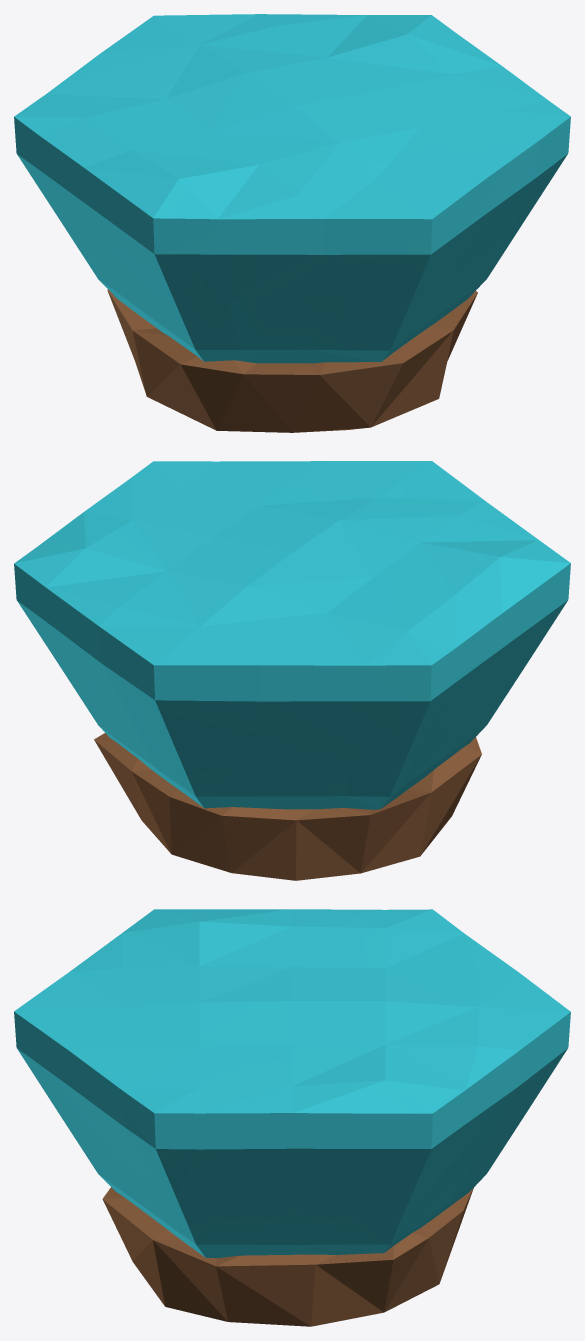
Rendered from hexa_water.glb.
The picture shows the model from 3 angles, top to bottom: view 1: azimuth 30°, elevation 25°; view 2: azimuth 150°, elevation 25°; view 3: azimuth 270°, elevation 25°; orthographic projection.
Visible parts, largest first — view 1: hexagon-water; view 2: hexagon-water; view 3: hexagon-water.
Boxes of the visible parts, x1,y1,x2,y2 form: hexagon-water: (14, 14, 570, 432); hexagon-water: (14, 461, 570, 880); hexagon-water: (14, 909, 570, 1326).
Size of the model in its own units: 19.92 by 13.77 by 23.
1 material, 1 textured.
